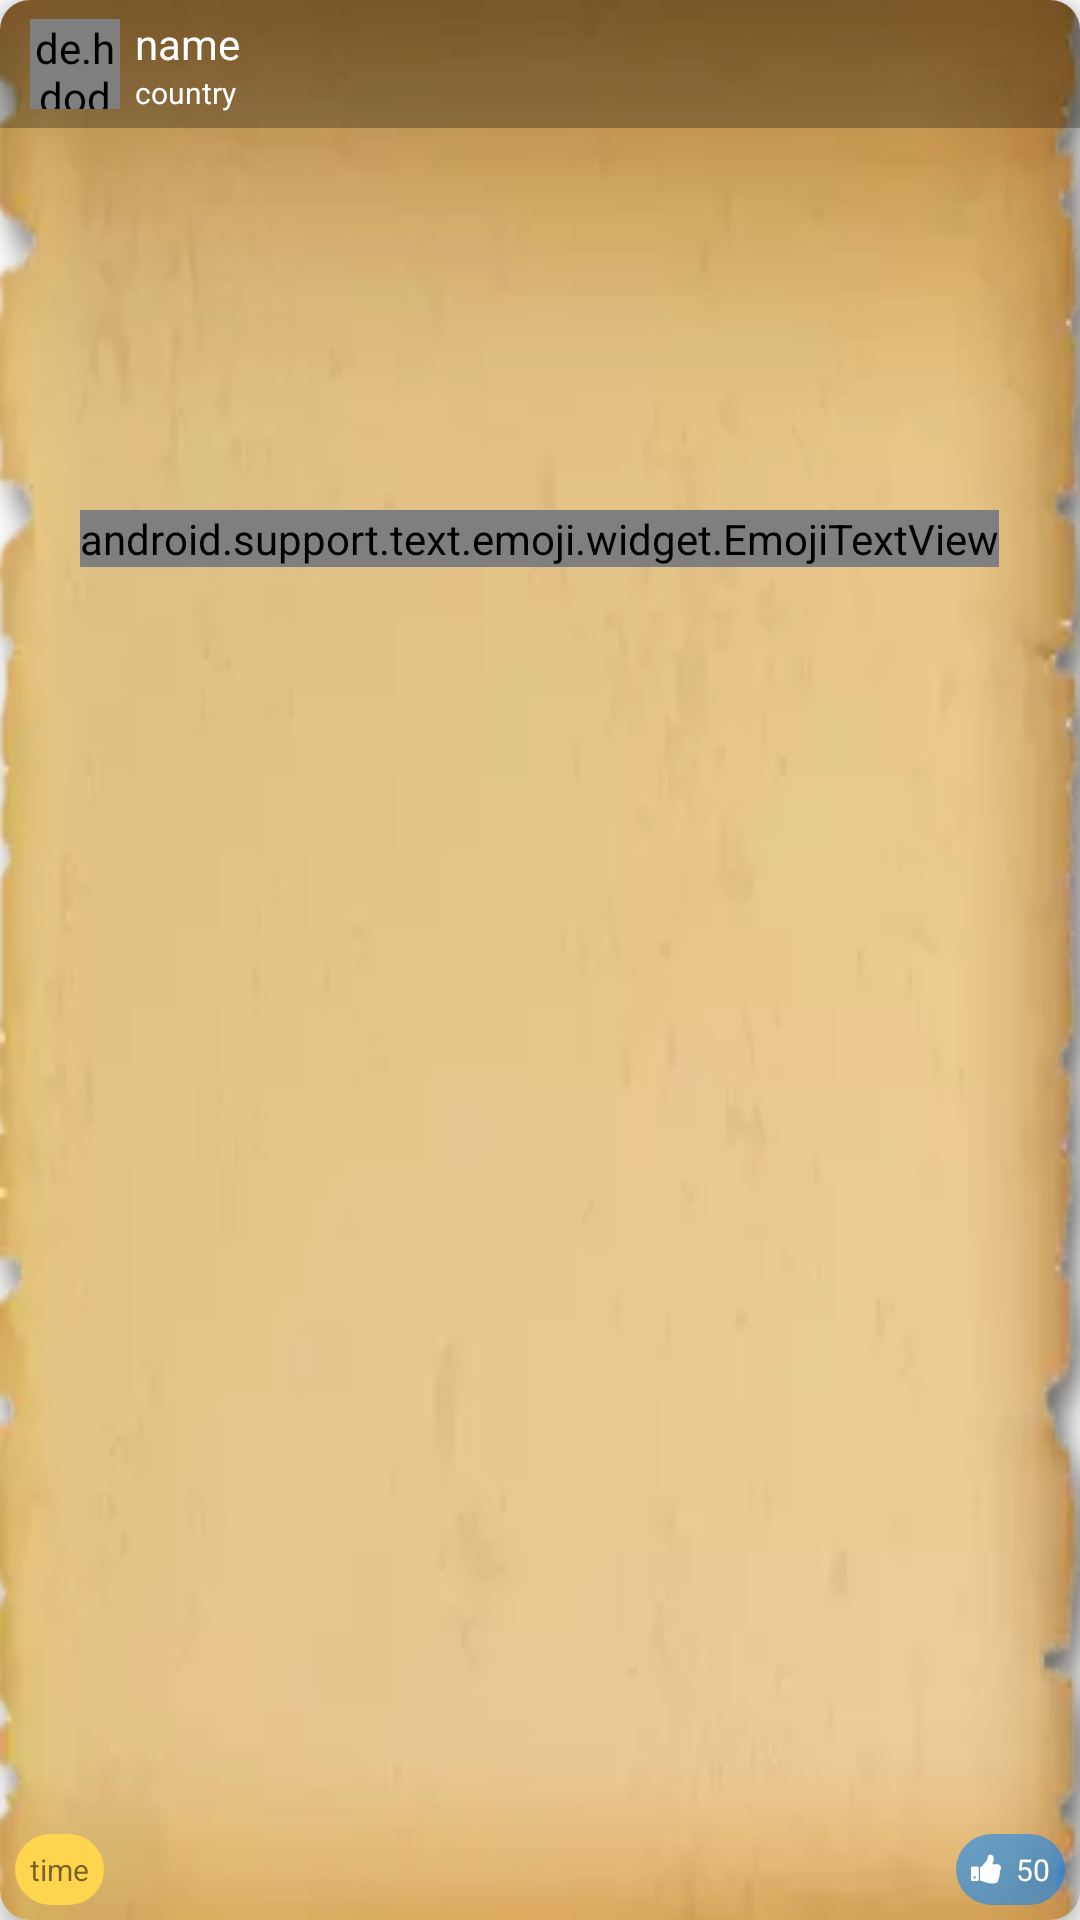

Screen size 1080x1920. Icon name, then its center in pixels as [x,y]:
like: [986,1869]
